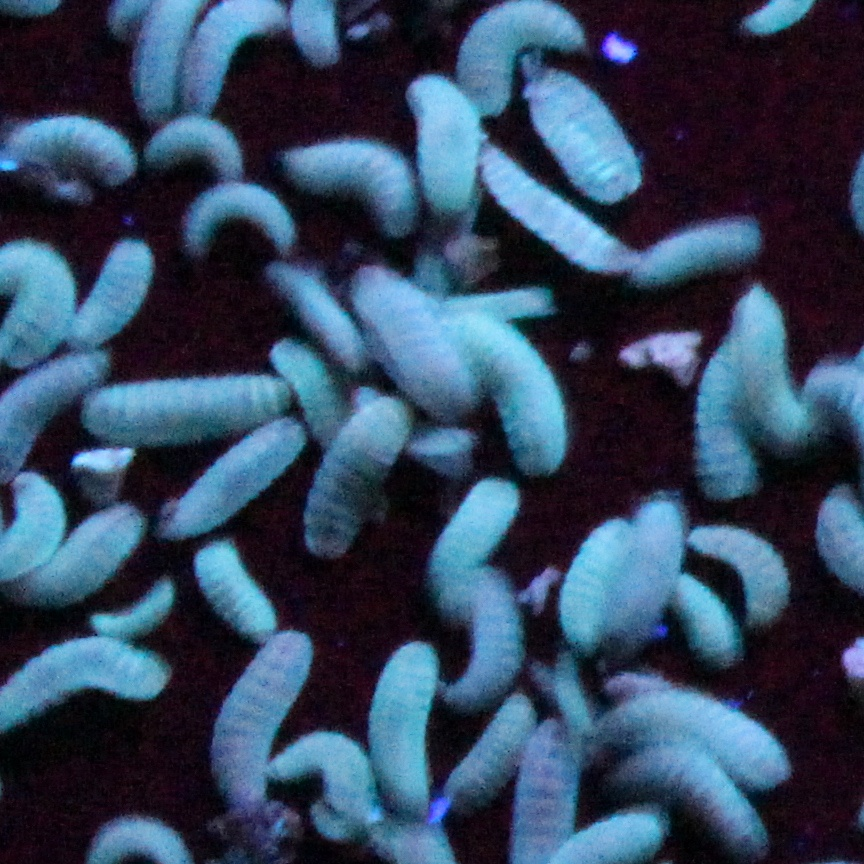larve: (443, 296, 567, 477), (470, 148, 641, 274), (204, 626, 314, 811), (609, 689, 789, 799), (614, 738, 772, 860), (299, 394, 414, 560), (163, 418, 311, 545), (87, 370, 292, 450), (526, 65, 643, 196), (460, 1, 585, 118), (287, 138, 421, 243), (26, 504, 146, 611), (431, 477, 526, 601), (270, 260, 375, 372), (60, 238, 160, 355), (375, 635, 441, 811), (446, 570, 528, 711), (438, 706, 538, 821), (697, 350, 768, 506), (409, 77, 485, 221), (738, 289, 811, 435), (611, 501, 687, 640), (685, 526, 789, 626), (638, 216, 770, 289), (194, 538, 285, 638), (563, 526, 631, 655), (665, 574, 741, 672), (185, 189, 297, 255), (94, 587, 172, 631)
